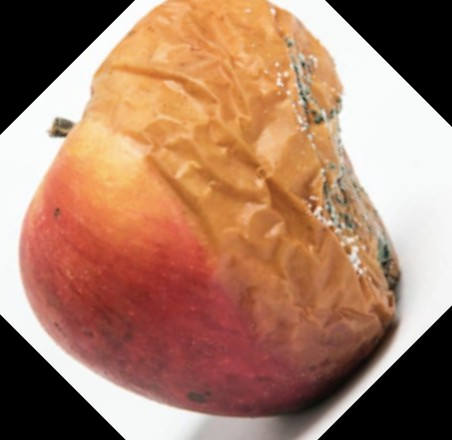rotten_apple: (20, 2, 400, 417)
